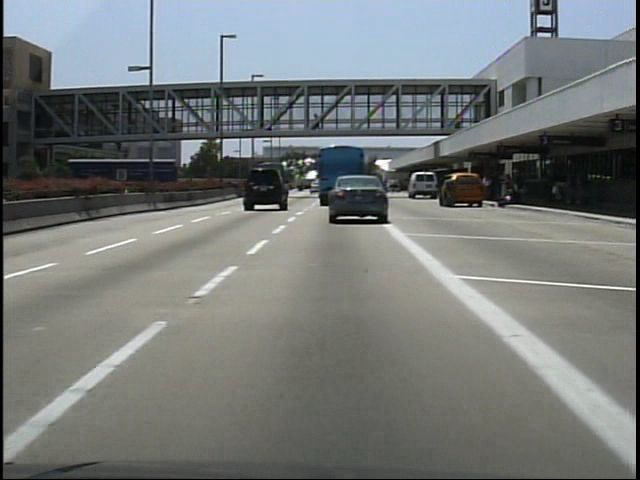person: (442, 176, 460, 215), (251, 110, 267, 133), (311, 112, 324, 138)
